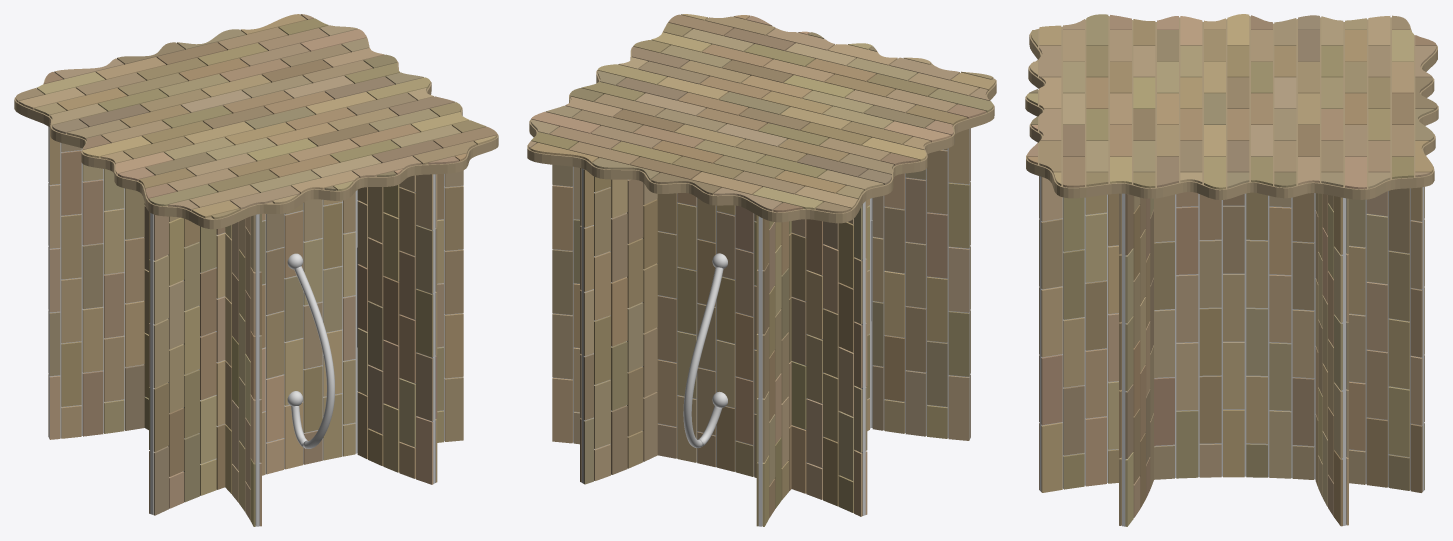
The model's file is lumina.glb.
3 views of the same model, side by side, from view 1: azimuth 30°, elevation 25°; view 2: azimuth 150°, elevation 25°; view 3: azimuth 270°, elevation 25° (orthographic). The views are drawn at different scales.
Parts seen in each view (by area): view 1: top_wood, wood_3, wood_2, wood_0, wood_1, wall_3, wall_2, rope_3, wall_1, wall_0; view 2: top_wood, wood_2, wood_3, wood_0, wood_1, wall_2, wall_3, rope_2, wall_1, wall_0; view 3: wood_0, top_wood, wood_3, wall_0, wood_2, wall_3, wall_2.
Part boxes in pixels (box(x1,y1,x2,y2)): top_wood: box(14, 14, 498, 229); wood_3: box(149, 170, 463, 515); wood_2: box(48, 127, 144, 439); wood_0: box(357, 174, 437, 484); wood_1: box(144, 203, 261, 526); wall_3: box(150, 174, 462, 514); wall_2: box(48, 127, 143, 438); rope_3: box(287, 253, 334, 448); wall_1: box(145, 205, 260, 526); wall_0: box(358, 174, 435, 483); top_wood: box(527, 14, 996, 223); wood_2: box(552, 164, 867, 516); wood_3: box(872, 128, 970, 440); wood_0: box(580, 168, 657, 484); wood_1: box(756, 199, 869, 526); wall_2: box(553, 166, 865, 515); wall_3: box(871, 128, 970, 439); rope_2: box(683, 253, 727, 447); wall_1: box(758, 198, 871, 526); wall_0: box(581, 168, 643, 483); wood_0: box(1039, 176, 1424, 492); top_wood: box(1025, 14, 1438, 200); wood_3: box(1119, 193, 1154, 526); wall_0: box(1039, 176, 1424, 491); wood_2: box(1315, 193, 1348, 526); wall_3: box(1122, 193, 1126, 526); wall_2: box(1341, 198, 1346, 525).
Bounding box in the file's own units: 0.5632 × 0.518 × 0.5632.
